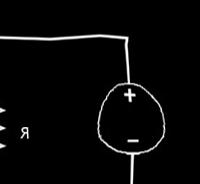Battery: (81, 77, 180, 160)
